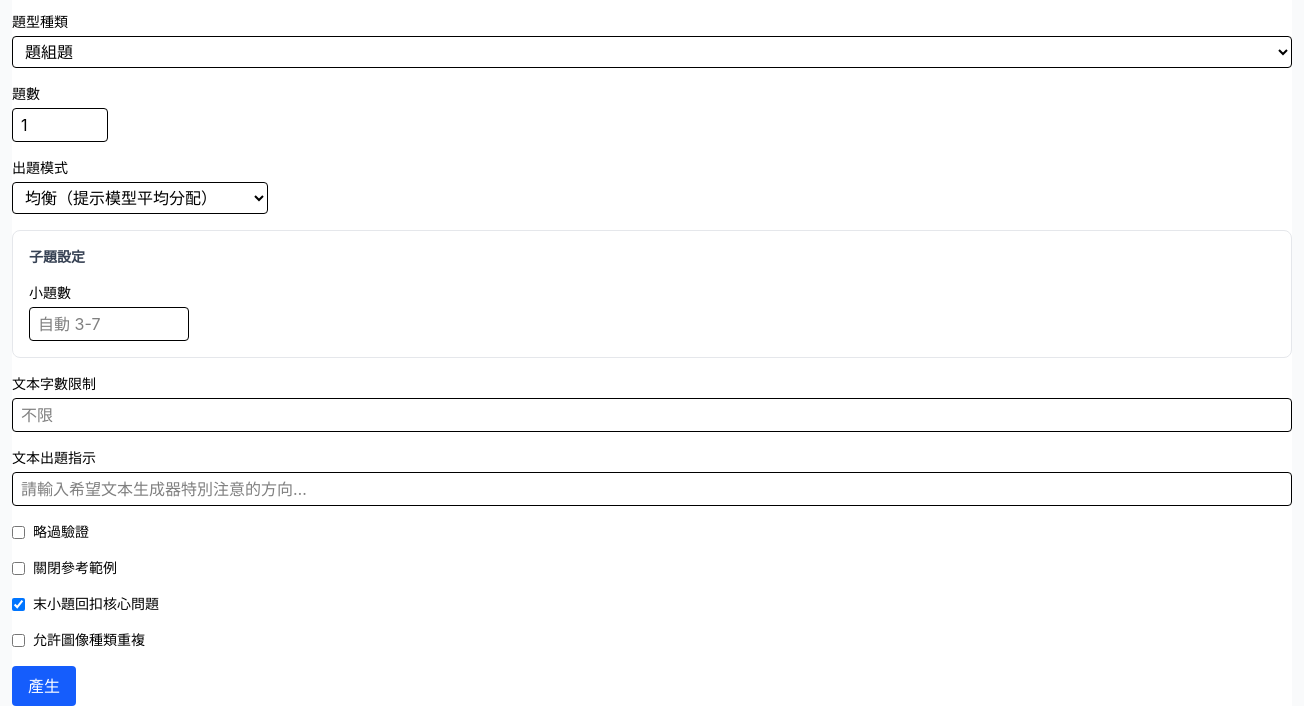
Test case: ParamForm 社會領域 ICCS domain and surface controls › shows the request-level domain and effective surface on 發送前確認
(page scrolled)
Click the button "產生" at (44, 686), box [12,666,76,705]
(page scrolled)
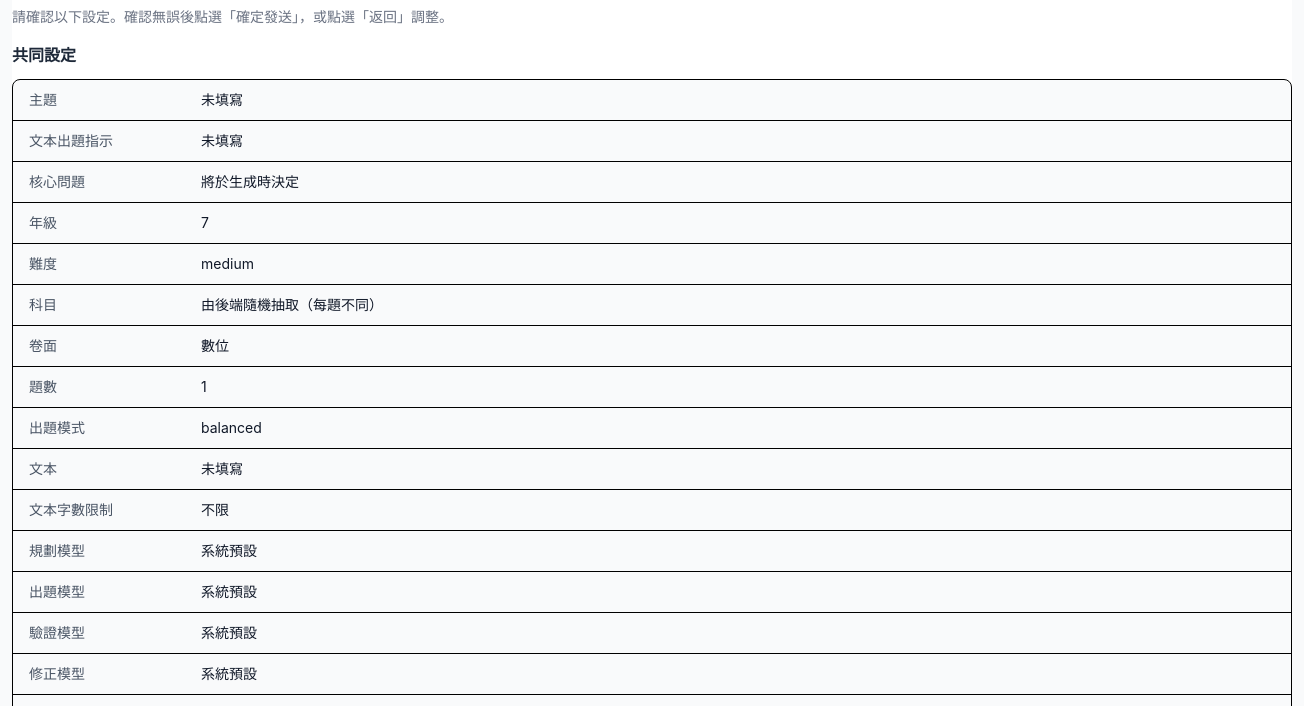
Expected: the text "數位" is shown, [201,337,229,354]
